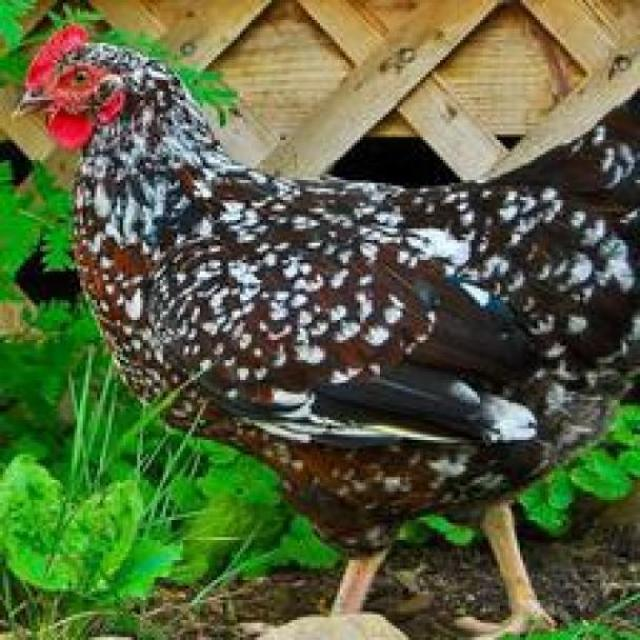Chicken: (14, 21, 640, 624)
